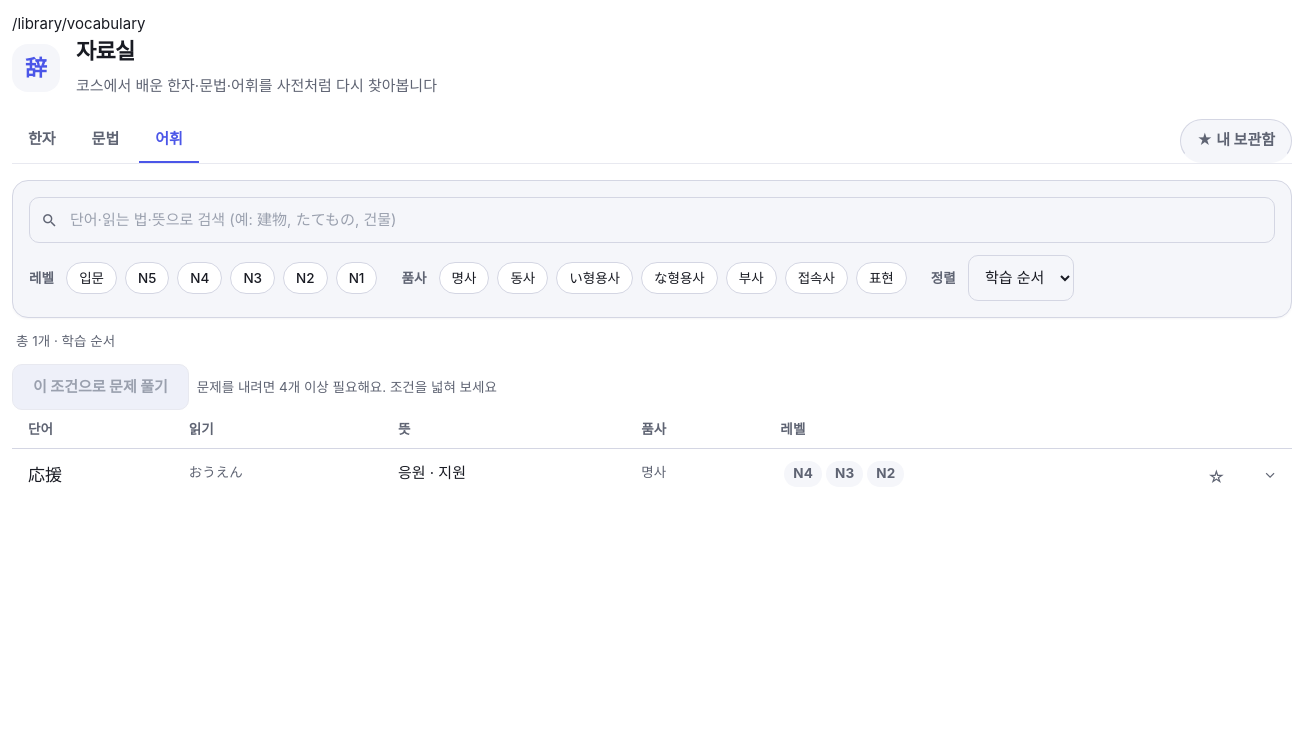
Scenario: LibraryVocabPage — 필터·정렬 (인수 22·23) › 정렬 셀렉트로 가나순을 고르면 sort=KANA가 붙고 결과 줄 표기가 바뀐다
The image size is (1292, 732).
Check: the button with aria-label "応援 자세히 보기" is shown, box [12,449,1291,506]
Select "가나순" in the dropdown named "정렬" at (1021, 278), box [968,255,1074,301]
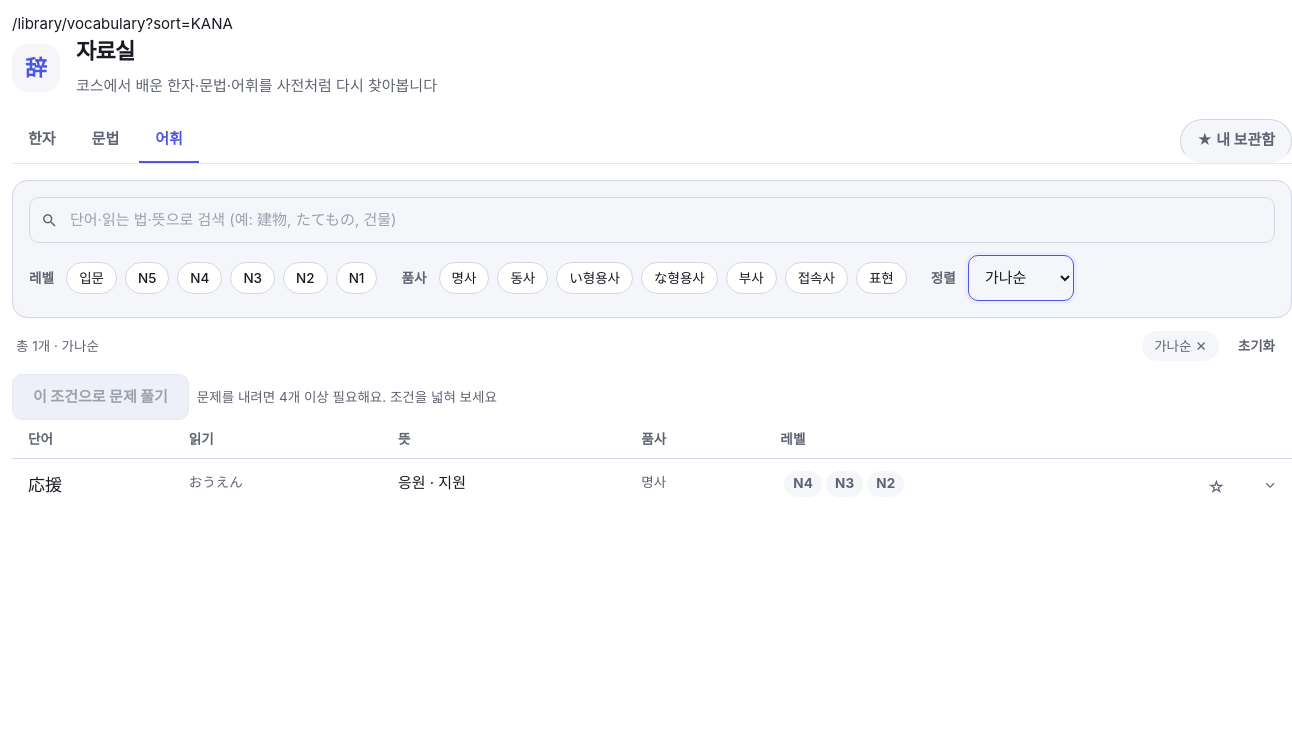
Check: the text with test id "location" shows "?sort=KANA", box [146,14,233,33]
Check: the text "총 1개 · 가나순" is shown, box [16,335,99,357]
